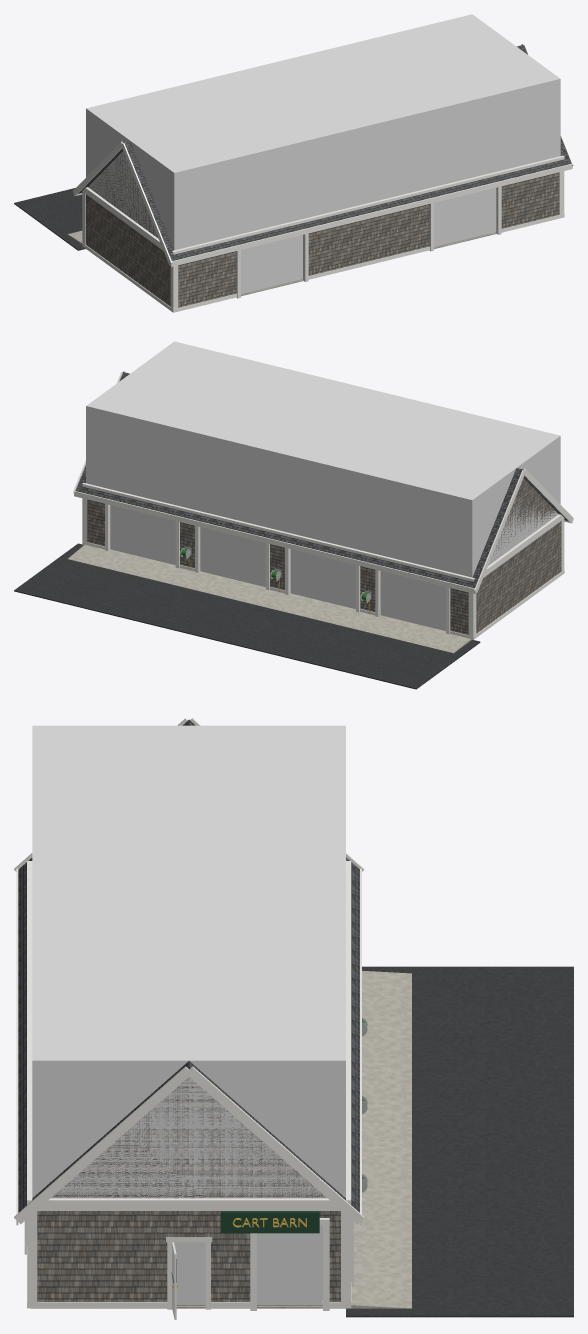
Rendered from cart_barn_l2.gltf.
3 views of the same model, one above another, from view 1: azimuth 30°, elevation 25°; view 2: azimuth 150°, elevation 25°; view 3: azimuth 270°, elevation 25° (orthographic). The views are drawn at different scales.
Visible parts, largest first — view 1: COL_barn0.001, WALLS_HIGH.001, BASE.001, ROOF.001; view 2: COL_barn0.001, BASE.001, WALLS_HIGH.001, ROOF.001; view 3: COL_barn0.001, BASE.001, WALLS_HIGH.001, ROOF.001.
Boxes of the visible parts, x1=… form: COL_barn0.001: x1=86, y1=14, x2=560, y2=294; WALLS_HIGH.001: x1=82, y1=155, x2=564, y2=298; BASE.001: x1=14, y1=188, x2=564, y2=312; ROOF.001: x1=73, y1=43, x2=573, y2=266; COL_barn0.001: x1=86, y1=341, x2=560, y2=630; BASE.001: x1=14, y1=526, x2=564, y2=689; WALLS_HIGH.001: x1=82, y1=482, x2=564, y2=634; ROOF.001: x1=73, y1=370, x2=573, y2=593; COL_barn0.001: x1=32, y1=725, x2=345, y2=1306; BASE.001: x1=27, y1=966, x2=573, y2=1317; WALLS_HIGH.001: x1=24, y1=861, x2=367, y2=1319; ROOF.001: x1=14, y1=718, x2=364, y2=1225.
Size of the model in its own units: 25.51 by 8.38 by 16.95.
19 materials, 5 textured.
